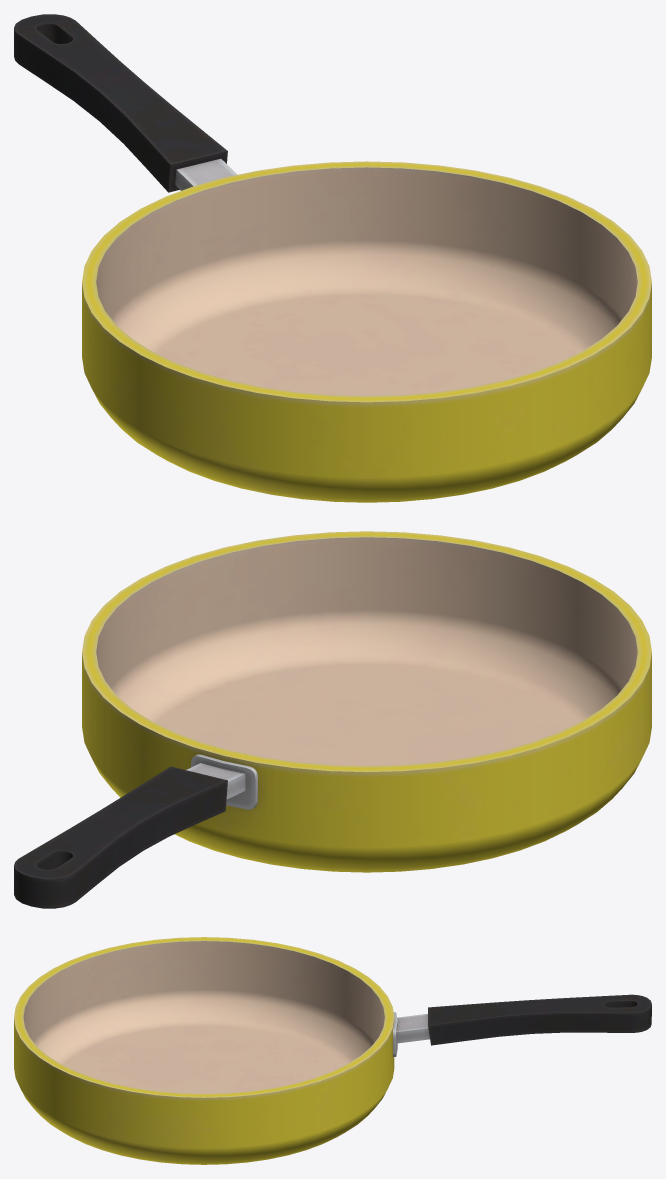
Rendered from Weapon Pan.glb.
The picture shows the model from 3 angles, top to bottom: view 1: azimuth 30°, elevation 25°; view 2: azimuth 150°, elevation 25°; view 3: azimuth 270°, elevation 25°; orthographic projection. The views are drawn at different scales.
Visible parts, largest first — view 1: SM_Weapon_Player_lacrimosa_pan_LOD0; view 2: SM_Weapon_Player_lacrimosa_pan_LOD0; view 3: SM_Weapon_Player_lacrimosa_pan_LOD0.
Part boxes in pixels (box(x1,y1,x2,y2)): SM_Weapon_Player_lacrimosa_pan_LOD0: box(14, 14, 651, 502); SM_Weapon_Player_lacrimosa_pan_LOD0: box(14, 531, 651, 908); SM_Weapon_Player_lacrimosa_pan_LOD0: box(14, 937, 651, 1164).
Bounding box in the file's own units: 0.322 × 0.0888 × 0.54.
Materials: 1 (1 with a texture image).
